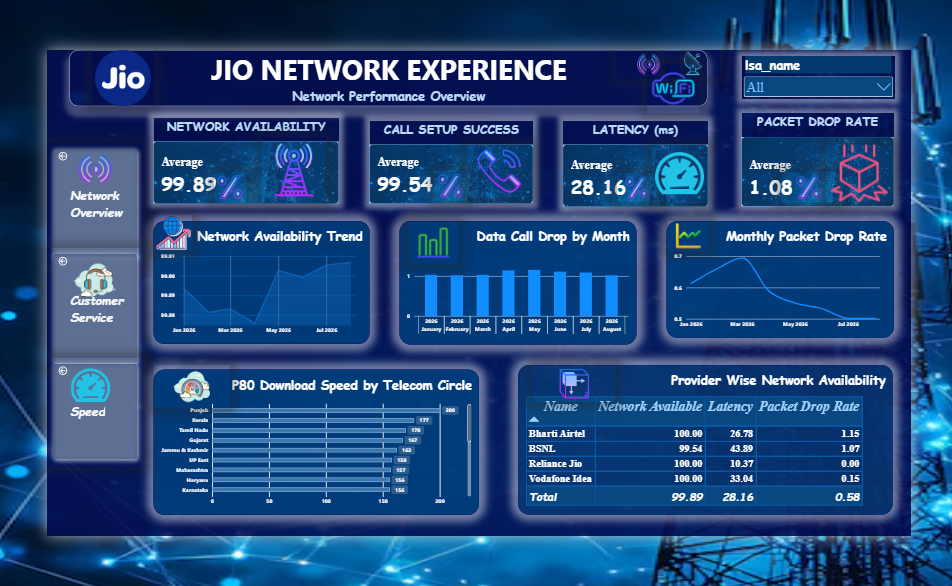

This screenshot's page, from the dashboard's own definition file:
{"tool":"powerbi","page":{"name":"Network Performance Overview","canvas":[1920,1080],"ordinal":0},"visuals":[{"type":"cardVisual","title":"NETWORK AVAILABILITY","fields":{"Data":["Avg(project fact_qos.network_availability_pct)"]},"box":[236.3,150.1,411.9,191.6],"z":0},{"type":"stackedAreaChart","title":"Network Availability Trend","fields":{"Category":["DimDate.Date.Variation.Date Hierarchy.Year","DimDate.Date.Variation.Date Hierarchy.Month"],"Y":["Avg(project fact_qos.network_availability_pct)"]},"box":[236.7,380,480,273.3],"z":1000},{"type":"clusteredColumnChart","title":"Data Call Drop by Month","fields":{"Category":["DimDate.Date.Variation.Date Hierarchy.Month","DimDate.Date.Variation.Date Hierarchy.Year"],"Y":["Avg(project fact_qos.dcr_ps_qsd_pct)"]},"box":[782.3,380,526.8,274.6],"z":2000},{"type":"clusteredBarChart","title":"P80 Download Speed by Telecom Circle","fields":{"Category":["project fact_speed.lsa_name"],"Y":["Avg(project fact_speed.p80_download_mbps)"]},"box":[236.7,710,723.3,323.3],"z":3000},{"type":"lineChart","title":"Monthly Packet Drop Rate","fields":{"Category":["DimDate.Date.Variation.Date Hierarchy.Year","DimDate.Date.Variation.Date Hierarchy.Month"],"Y":["Avg(project fact_qos.packet_drop_rate_pct)"]},"box":[1375,380,505,260],"z":4000},{"type":"slicer","fields":{"Values":["project fact_customer.lsa_name"]},"box":[1542.2,12.8,341.6,95.8],"z":5000},{"type":"tableEx","title":"Provider Wise Network Availability","fields":{"Values":["project fact_qos.provider_name","Avg(project fact_qos.network_availability_pct)","Avg(project fact_qos.latency_ms)","Avg(project fact_qos.packet_drop_rate_pct)"]},"box":[1047.5,700,832.5,332.5],"z":6000},{"type":"actionButton","box":[0,206.7,213.3,270],"z":7000},{"type":"textbox","title":"JIO NETWORK EXPERIENCE","box":[51,0,1417.3,124.7],"z":8000},{"type":"cardVisual","title":"CALL SETUP SUCCESS","fields":{"Data":["Avg(project fact_qos.call_setup_success_intra_pct)"]},"box":[715.2,156.5,364,185.2],"z":9000},{"type":"cardVisual","title":"LATENCY (ms)","fields":{"Data":["Avg(project fact_qos.latency_ms)"]},"box":[1146.3,156.5,322.5,191.6],"z":10000},{"type":"cardVisual","title":"PACKET DROP RATE","fields":{"Data":["Avg(project fact_qos.dcr_ps_qsd_pct)"]},"box":[1542.2,140.5,338.5,207.5],"z":11000},{"type":"image","box":[475.7,194.8,143.7,146.9],"z":12000},{"type":"image","box":[370.4,271.4,73.4,70.2],"z":13000},{"type":"image","box":[858.9,268.2,73.4,70.2],"z":14000},{"type":"image","box":[1628.4,271.4,124.5,70.2],"z":15000},{"type":"image","box":[1266.9,274.4,88.3,64.4],"z":16000},{"type":"image","box":[932.3,210.7,143.7,118.1],"z":17000},{"type":"image","box":[99,0,137.3,124.5],"z":18000},{"type":"image","box":[1344.2,210.7,124.5,130.9],"z":19000},{"type":"image","box":[1730.6,210.7,150.1,127.7],"z":20000},{"type":"image","box":[1380,380,90,66.7],"z":21000},{"type":"image","box":[803.3,380,110,96.7],"z":22000},{"type":"image","box":[236.7,366.7,86.7,80],"z":23000},{"type":"image","box":[236.7,700,170,96.7],"z":24000},{"type":"image","box":[1080,700,183.3,83.3],"z":25000},{"type":"image","box":[1266.7,0,140,63.3],"z":26000},{"type":"image","box":[1373.3,0,123.3,60],"z":27000},{"type":"image","box":[1333.3,30,116.7,110],"z":28000},{"type":"actionButton","box":[0,440,213.3,270],"z":29000},{"type":"actionButton","box":[0,683.3,213.3,240],"z":30000},{"type":"image","box":[36.7,220,140,90],"z":31000},{"type":"image","box":[26.7,696.7,140,100],"z":32000},{"type":"image","box":[43.3,460,123.3,103.3],"z":33000}]}

Visuals, with their boxes on the page's 1920x1080 design canvas (x1, y1, x2, y2). These are canvas units, not pixel positions in the 952x586 screenshot, which may show the page scaled, cropped or inside an application window:
"NETWORK AVAILABILITY" cardVisual: (left=236, top=150, right=648, bottom=342)
"Network Availability Trend" stackedAreaChart: (left=237, top=380, right=717, bottom=653)
"Data Call Drop by Month" clusteredColumnChart: (left=782, top=380, right=1309, bottom=655)
"P80 Download Speed by Telecom Circle" clusteredBarChart: (left=237, top=710, right=960, bottom=1033)
"Monthly Packet Drop Rate" lineChart: (left=1375, top=380, right=1880, bottom=640)
slicer - project fact_customer.lsa_name: (left=1542, top=13, right=1884, bottom=109)
"Provider Wise Network Availability" tableEx: (left=1048, top=700, right=1880, bottom=1032)
actionButton: (left=0, top=207, right=213, bottom=477)
"JIO NETWORK EXPERIENCE" textbox: (left=51, top=0, right=1468, bottom=125)
"CALL SETUP SUCCESS" cardVisual: (left=715, top=156, right=1079, bottom=342)
"LATENCY (ms)" cardVisual: (left=1146, top=156, right=1469, bottom=348)
"PACKET DROP RATE" cardVisual: (left=1542, top=140, right=1881, bottom=348)
image: (left=476, top=195, right=619, bottom=342)
image: (left=370, top=271, right=444, bottom=342)
image: (left=859, top=268, right=932, bottom=338)
image: (left=1628, top=271, right=1753, bottom=342)
image: (left=1267, top=274, right=1355, bottom=339)
image: (left=932, top=211, right=1076, bottom=329)
image: (left=99, top=0, right=236, bottom=124)
image: (left=1344, top=211, right=1469, bottom=342)
image: (left=1731, top=211, right=1881, bottom=338)
image: (left=1380, top=380, right=1470, bottom=447)
image: (left=803, top=380, right=913, bottom=477)
image: (left=237, top=367, right=323, bottom=447)
image: (left=237, top=700, right=407, bottom=797)
image: (left=1080, top=700, right=1263, bottom=783)
image: (left=1267, top=0, right=1407, bottom=63)
image: (left=1373, top=0, right=1497, bottom=60)
image: (left=1333, top=30, right=1450, bottom=140)
actionButton: (left=0, top=440, right=213, bottom=710)
actionButton: (left=0, top=683, right=213, bottom=923)
image: (left=37, top=220, right=177, bottom=310)
image: (left=27, top=697, right=167, bottom=797)
image: (left=43, top=460, right=167, bottom=563)
